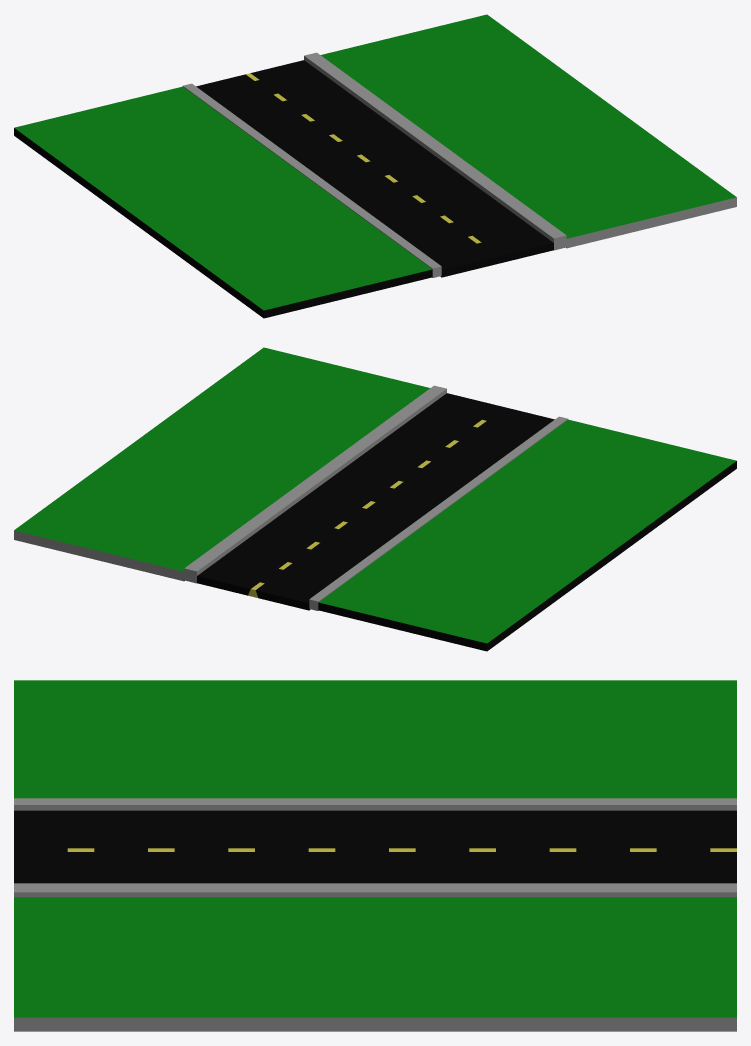
The model's file is Road.fbx.
The picture shows the model from 3 angles, top to bottom: view 1: azimuth 30°, elevation 25°; view 2: azimuth 150°, elevation 25°; view 3: azimuth 270°, elevation 25°; orthographic projection. The views are drawn at different scales.
Visible parts, largest first — view 1: RoadSurface; view 2: RoadSurface; view 3: RoadSurface.
Part boxes in pixels (x1,y1,x2,y2): RoadSurface: (14,14,736,318); RoadSurface: (14,347,736,651); RoadSurface: (14,680,736,1031).
Size of the model in its own units: 2997 by 78.95 by 2741.
